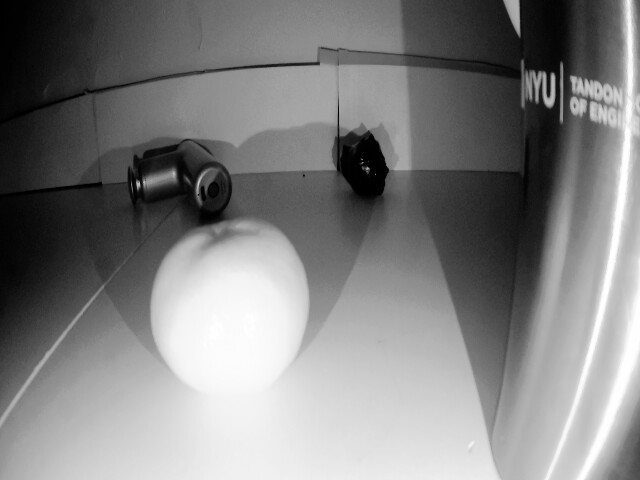silver: (333, 139, 391, 190)
